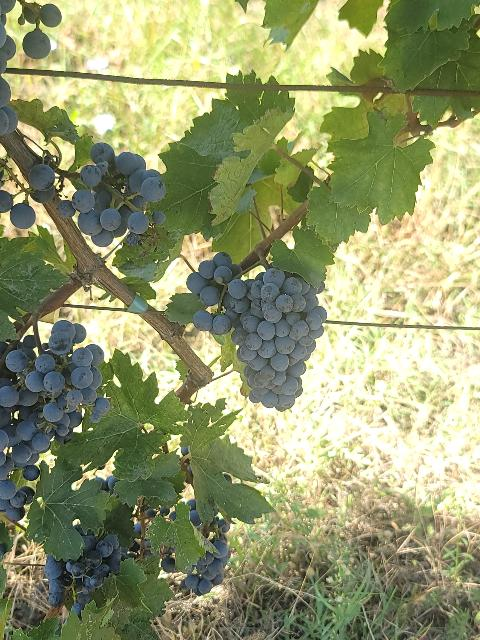grapes: (186, 251, 328, 411), (18, 320, 110, 441), (71, 142, 165, 248), (0, 341, 50, 521)
